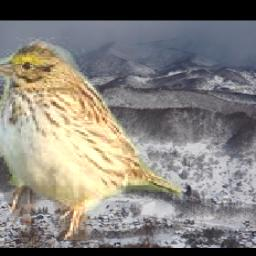Sparrow: (0, 37, 183, 240)
